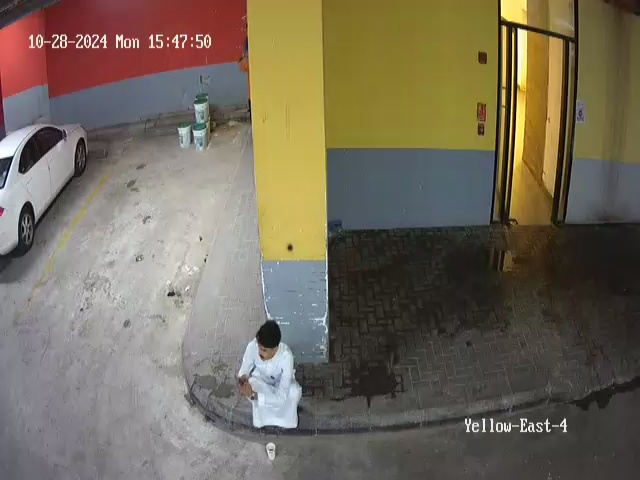male: (237, 320, 303, 431)
